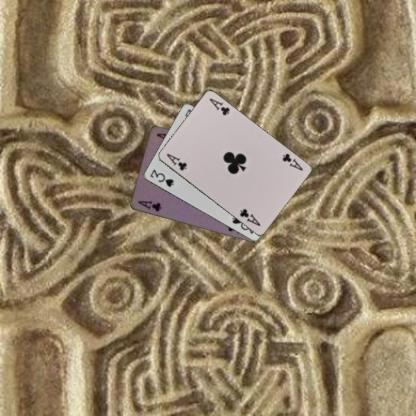3s: (148, 167, 174, 188)
Ac: (163, 151, 188, 172), (280, 151, 304, 172), (136, 197, 162, 213)
